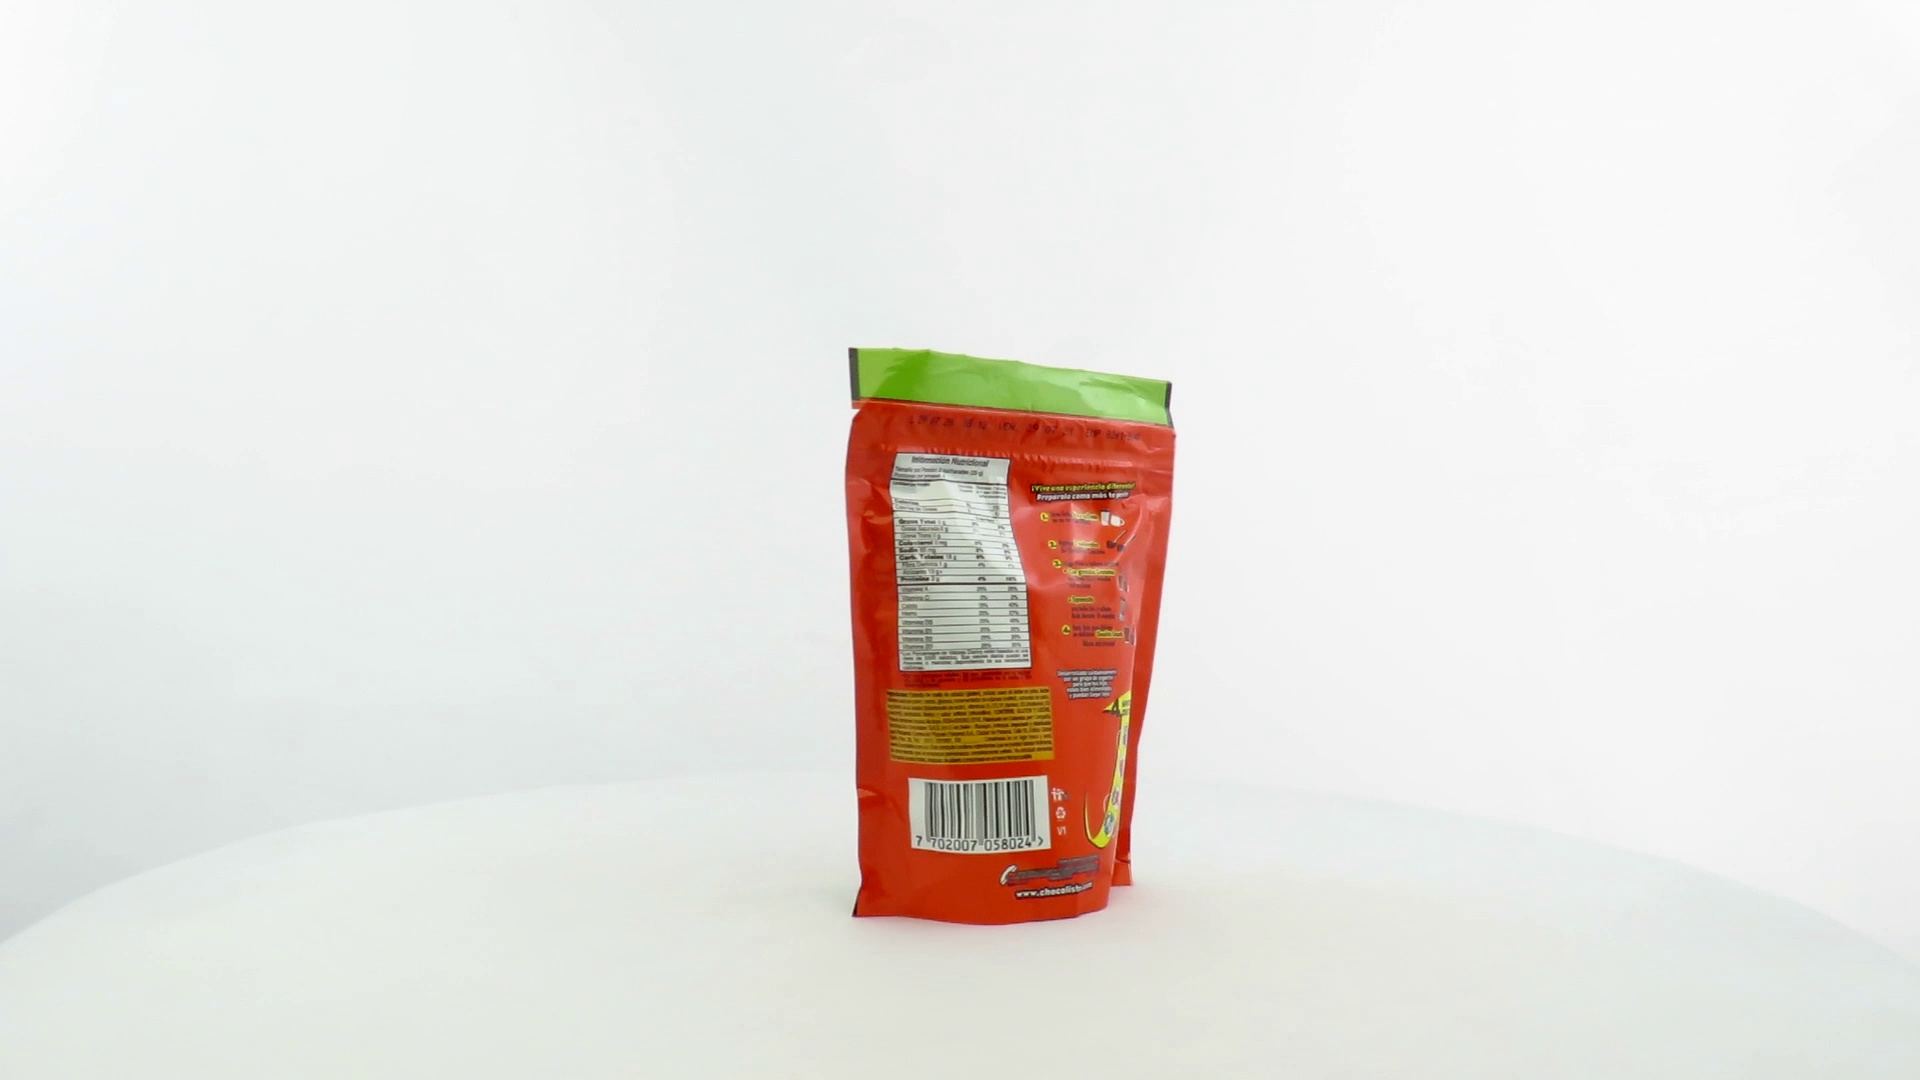COL0170102DYP10000: (840, 342, 1182, 932)
